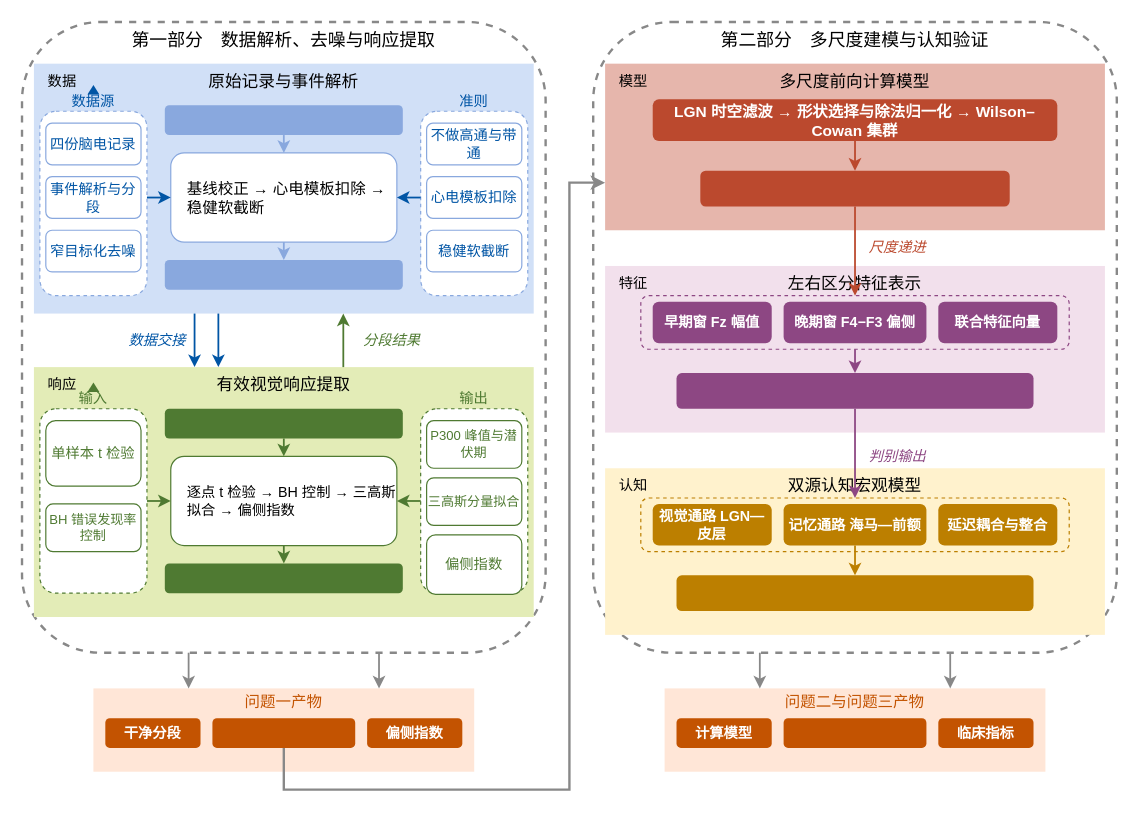
Some shapes in this 1138 by 820 pixel diagram are drawn without their labels. The box of each missing label's shape, as (x1, y1, x2, y2) in pixels:
Kuramoto 宏观同步与序参数: (700, 170, 1009, 206)
判别特征: (783, 718, 926, 747)
参数辨识与分层验证 → 结论与临床指标: (676, 575, 1033, 610)
响应提取与曲线拟合: (164, 408, 402, 438)
响应曲线: (212, 718, 355, 747)
窄目标化去噪流程: (164, 105, 402, 134)
线性判别分析 → 左右判据: (676, 372, 1033, 408)
输出：响应曲线与偏侧指数: (164, 563, 402, 593)
输出：干净脑电分段: (164, 259, 402, 289)
